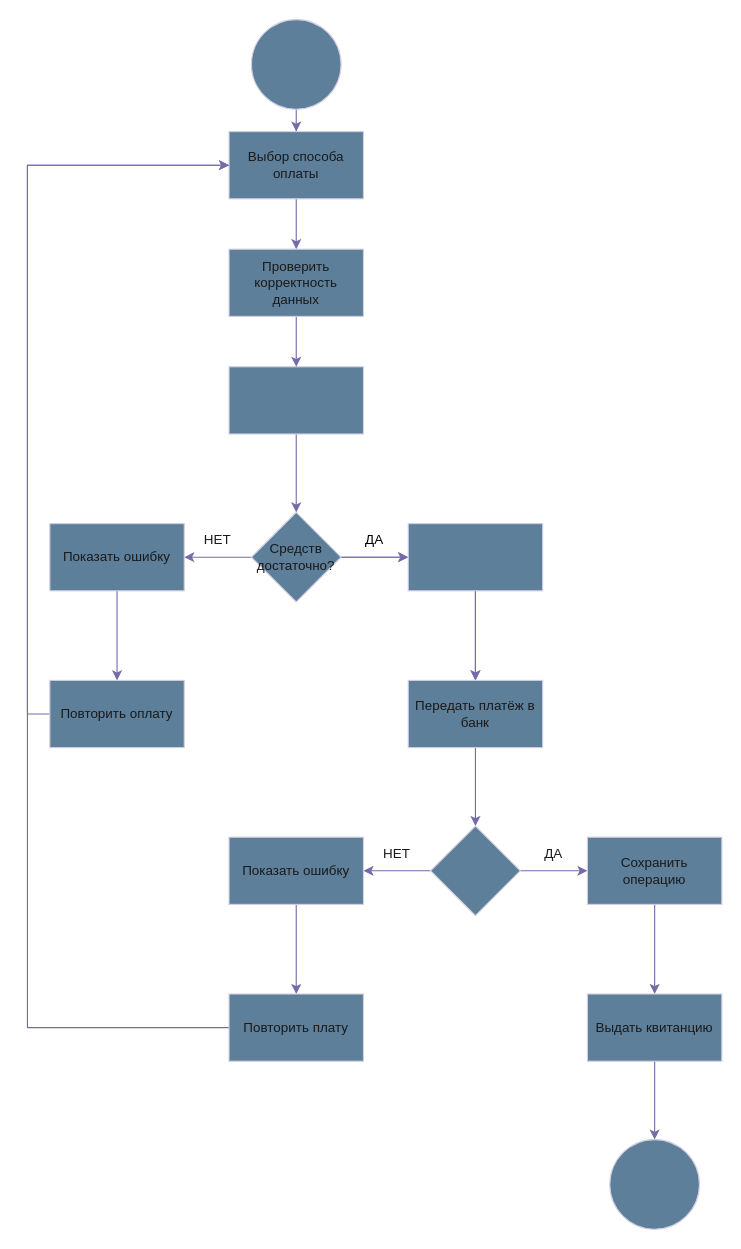
Some shapes in this 741 by 1249 pixel diagram are drawn without their labels. The shapes that lost their labels are listed below. From the top down, each one's centre as x and y in pixels, then its label:
point (295, 63): Старт
point (295, 400): Проверка доступности средств
point (475, 556): Сформировать платёж
point (475, 870): Платёж выполнен?
point (654, 1183): Конец
